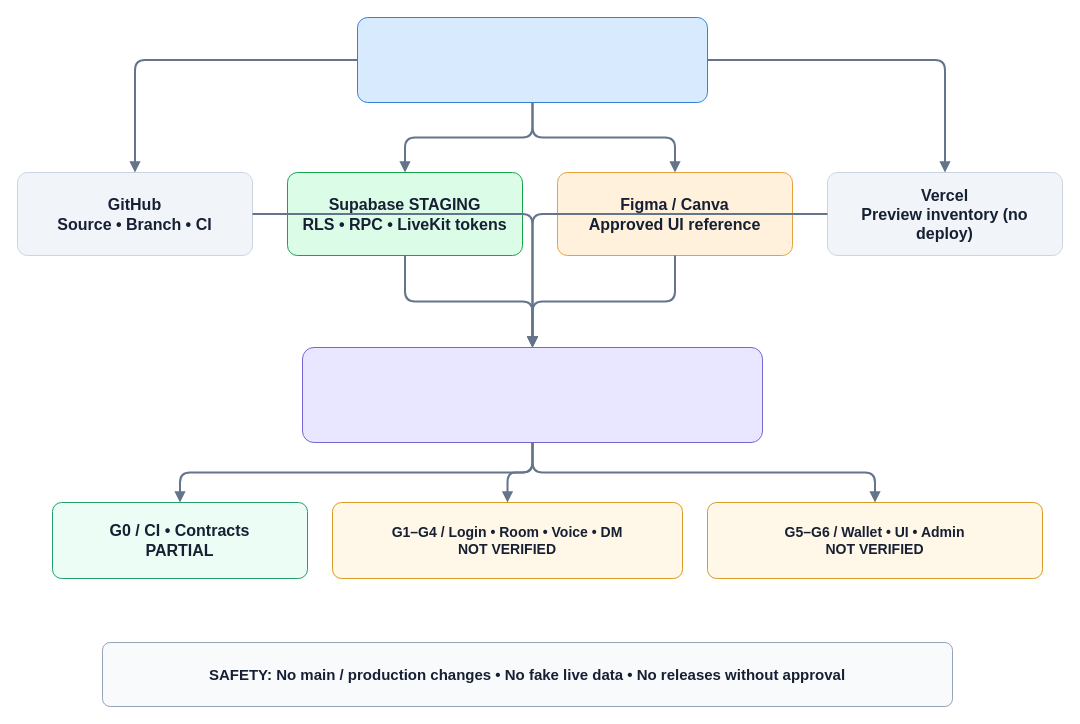
Image size: 1080x724. Some labels were removed from this diagram. Here are the shapes that lost their labels. From the top down, the centre of each, then its label:
point 532,59: NUMYAR — Command Center Evidence • Priorities • Approval
point 532,394: PROJECT 01 — TOTICHAT Flutter / Dart Beta (Staging only)
